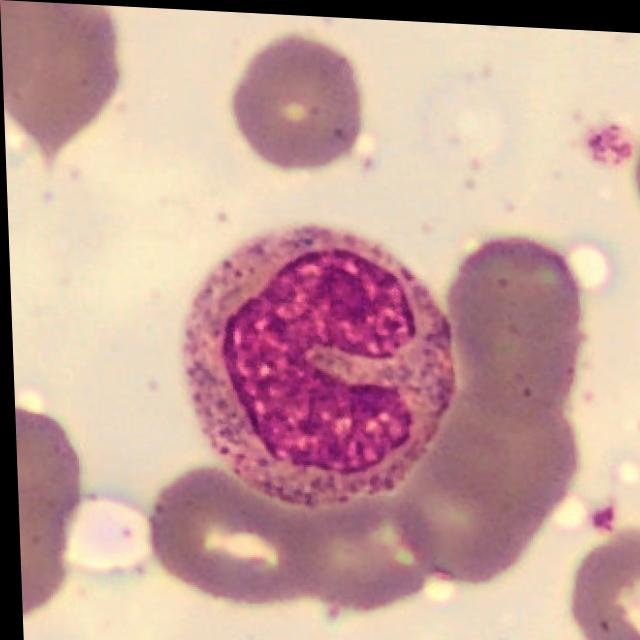Bastonete: (179, 222, 453, 509)
